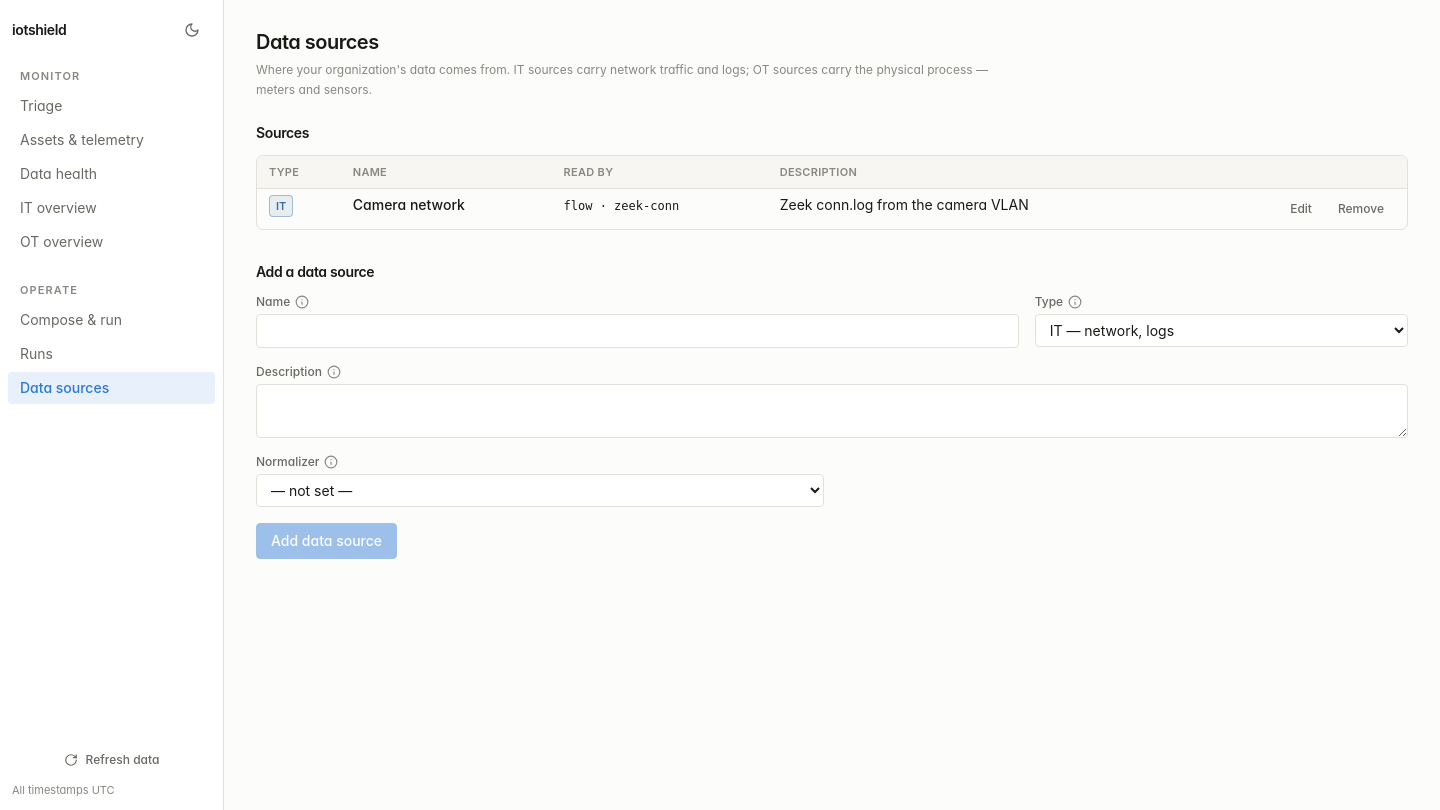
Data sources page › removes a source after confirmation
Click the button with test id "ds_remove_Camera network" at (1361, 209), box [1327,195,1395,223]
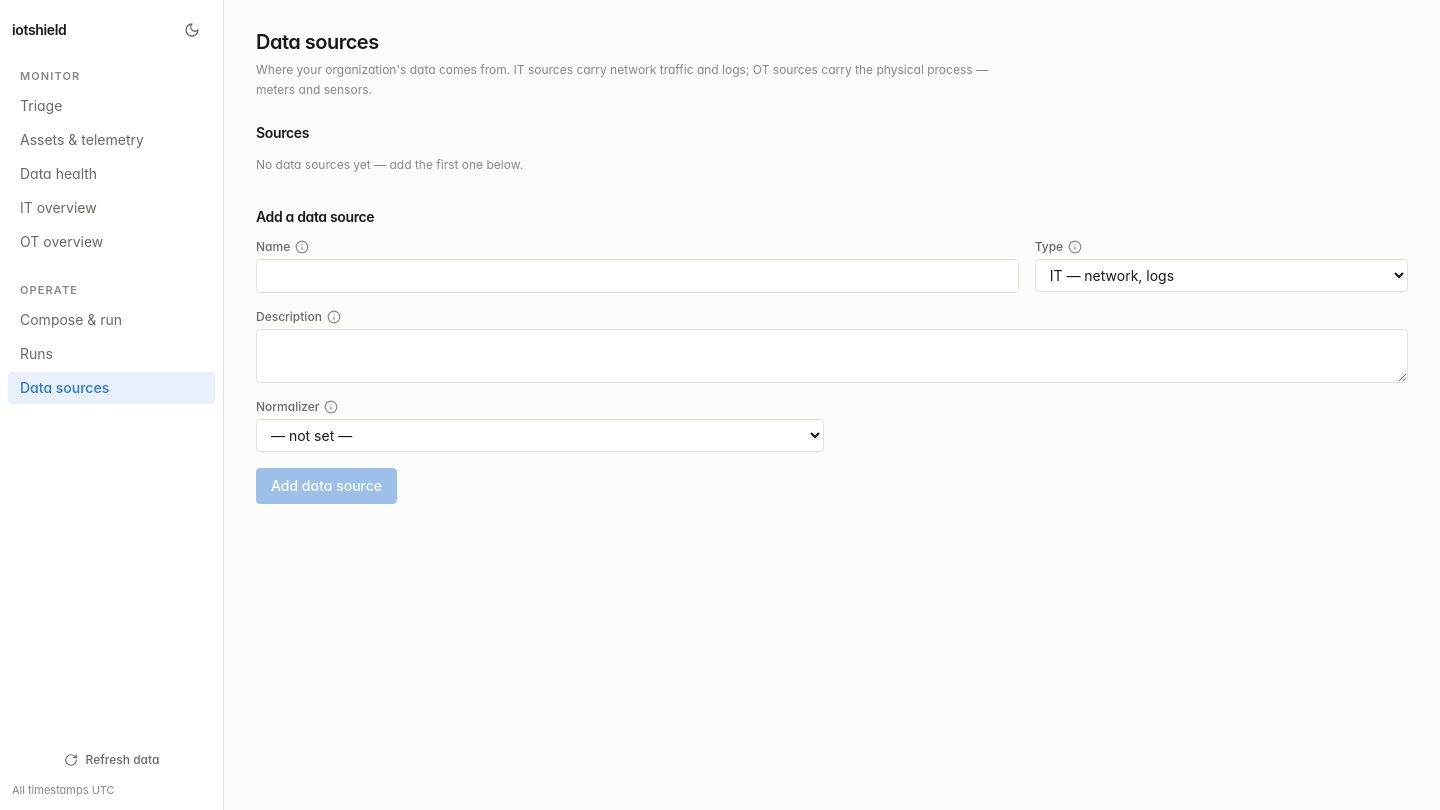
Check: the text "No data sources yet — add the first one below." is shown, box [256,157,523,172]
